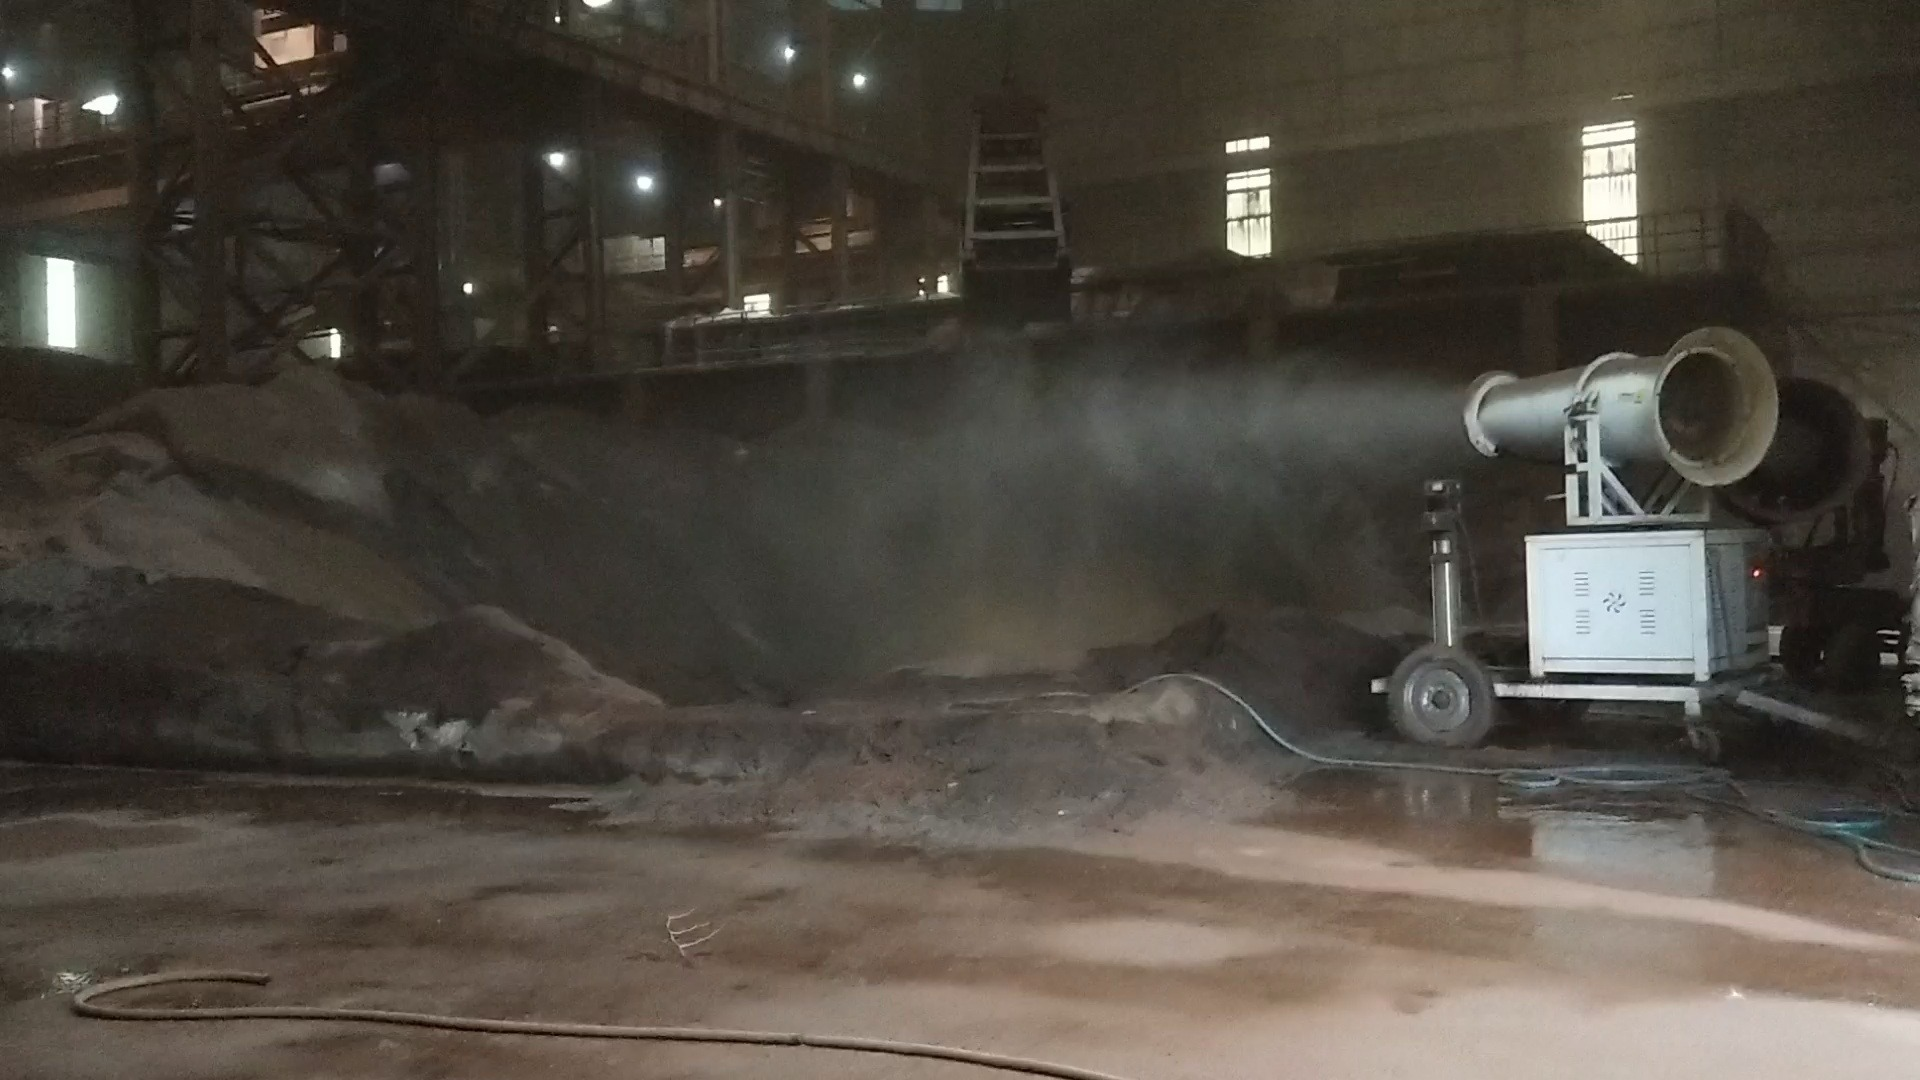dust: (773, 335, 1447, 585)
grab: (940, 67, 1080, 320)
